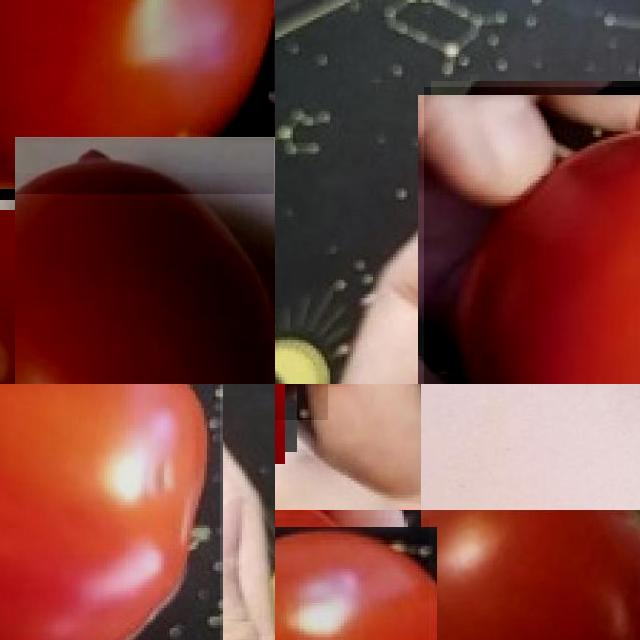Fresh Tomato: (424, 87, 640, 384), (0, 173, 275, 384), (0, 384, 220, 640), (0, 0, 274, 194), (421, 510, 640, 640), (275, 518, 429, 640)
